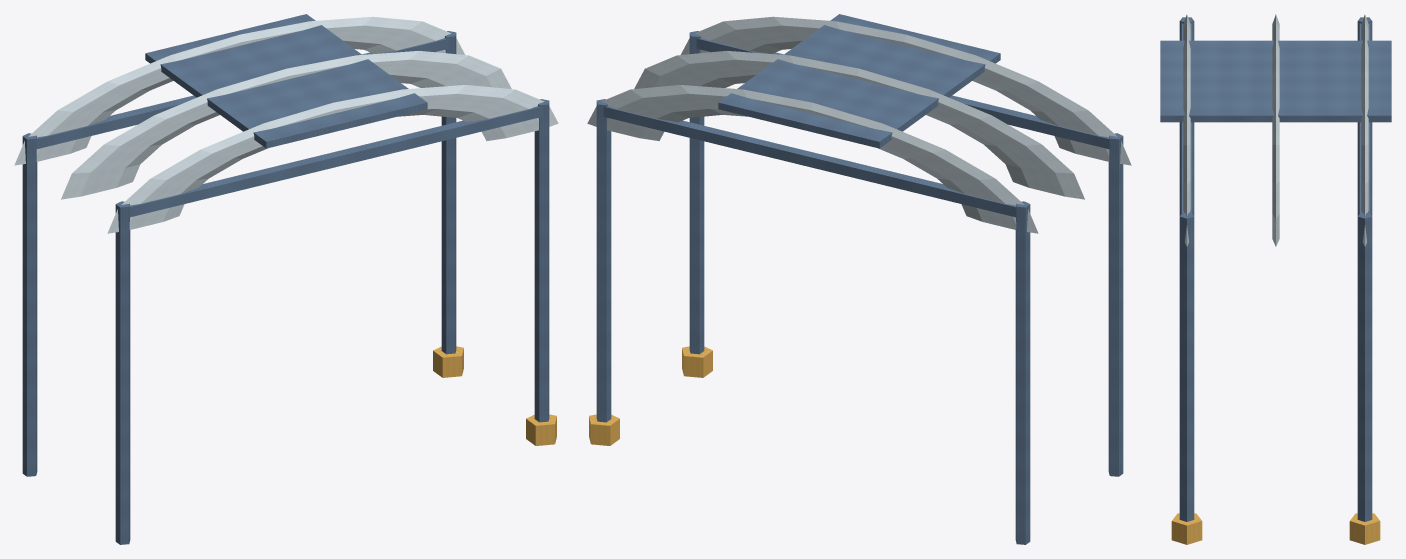
The model's file is atlas100-s051-a08.lod1.glb.
The picture shows the model from 3 angles, left to right: view 1: azimuth 30°, elevation 25°; view 2: azimuth 150°, elevation 25°; view 3: azimuth 270°, elevation 25°; orthographic projection. The views are drawn at different scales.
Parts seen in each view (by area): view 1: atlas100-s051-a08:part-013, atlas100-s051-a08:part-011, atlas100-s051-a08:part-012, atlas100-s051-a08:part-010, atlas100-s051-a08:part-009, atlas100-s051-a08:part-000, atlas100-s051-a08:part-002, atlas100-s051-a08:part-006, atlas100-s051-a08:part-004, atlas100-s051-a08:part-008, atlas100-s051-a08:part-005, atlas100-s051-a08:part-007; view 2: atlas100-s051-a08:part-013, atlas100-s051-a08:part-011, atlas100-s051-a08:part-010, atlas100-s051-a08:part-012, atlas100-s051-a08:part-008, atlas100-s051-a08:part-000, atlas100-s051-a08:part-002, atlas100-s051-a08:part-004, atlas100-s051-a08:part-006, atlas100-s051-a08:part-009, atlas100-s051-a08:part-005, atlas100-s051-a08:part-007; view 3: atlas100-s051-a08:part-013, atlas100-s051-a08:part-004, atlas100-s051-a08:part-006, atlas100-s051-a08:part-011, atlas100-s051-a08:part-010, atlas100-s051-a08:part-012, atlas100-s051-a08:part-005, atlas100-s051-a08:part-007, atlas100-s051-a08:part-000, atlas100-s051-a08:part-002, atlas100-s051-a08:part-008, atlas100-s051-a08:part-009.
Boxes of the visible parts, box(x1,y1,x2,y2) form: atlas100-s051-a08:part-013: box(145, 14, 427, 148); atlas100-s051-a08:part-011: box(61, 51, 511, 199); atlas100-s051-a08:part-012: box(107, 85, 558, 233); atlas100-s051-a08:part-010: box(14, 16, 464, 165); atlas100-s051-a08:part-009: box(129, 106, 542, 217); atlas100-s051-a08:part-000: box(22, 133, 37, 476); atlas100-s051-a08:part-002: box(115, 201, 130, 544); atlas100-s051-a08:part-006: box(534, 99, 549, 422); atlas100-s051-a08:part-004: box(441, 31, 456, 354); atlas100-s051-a08:part-008: box(36, 38, 449, 149); atlas100-s051-a08:part-005: box(433, 346, 463, 377); atlas100-s051-a08:part-007: box(526, 414, 556, 445); atlas100-s051-a08:part-013: box(718, 14, 1000, 148); atlas100-s051-a08:part-011: box(634, 51, 1084, 199); atlas100-s051-a08:part-010: box(587, 85, 1038, 233); atlas100-s051-a08:part-012: box(681, 16, 1131, 165); atlas100-s051-a08:part-008: box(603, 106, 1016, 217); atlas100-s051-a08:part-000: box(1015, 201, 1030, 544); atlas100-s051-a08:part-002: box(1108, 133, 1123, 476); atlas100-s051-a08:part-004: box(596, 99, 611, 422); atlas100-s051-a08:part-006: box(689, 31, 704, 354); atlas100-s051-a08:part-009: box(696, 38, 1109, 149); atlas100-s051-a08:part-005: box(589, 414, 619, 445); atlas100-s051-a08:part-007: box(682, 346, 712, 377); atlas100-s051-a08:part-013: box(1160, 40, 1391, 122); atlas100-s051-a08:part-004: box(1357, 213, 1372, 521); atlas100-s051-a08:part-006: box(1179, 213, 1194, 521); atlas100-s051-a08:part-011: box(1272, 14, 1279, 246); atlas100-s051-a08:part-010: box(1361, 14, 1368, 246); atlas100-s051-a08:part-012: box(1183, 14, 1190, 246); atlas100-s051-a08:part-005: box(1349, 513, 1380, 544); atlas100-s051-a08:part-007: box(1171, 513, 1202, 544); atlas100-s051-a08:part-000: box(1357, 17, 1372, 215); atlas100-s051-a08:part-002: box(1179, 17, 1194, 215); atlas100-s051-a08:part-008: box(1359, 23, 1370, 213); atlas100-s051-a08:part-009: box(1181, 23, 1192, 213).
Bounding box in the file's own units: 5.6 × 4.6 × 2.6.
Materials: 3 (3 with a texture image).
